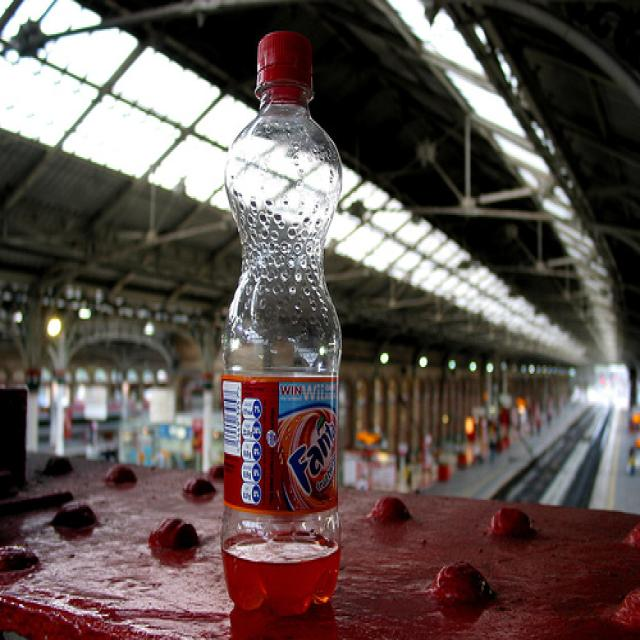bottle: (221, 25, 345, 622)
